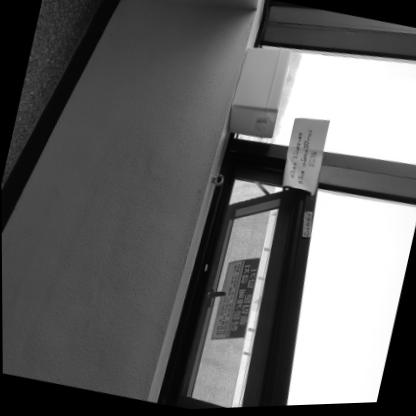DDL: (226, 41, 292, 142)
